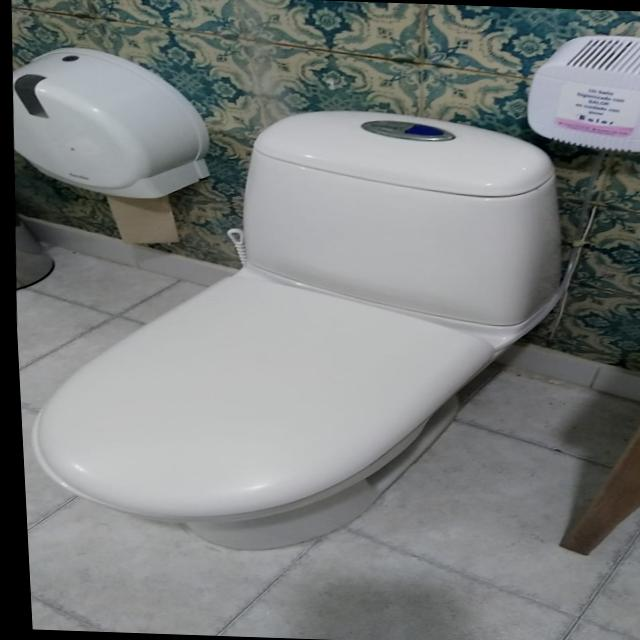toilet: (7, 97, 580, 561)
